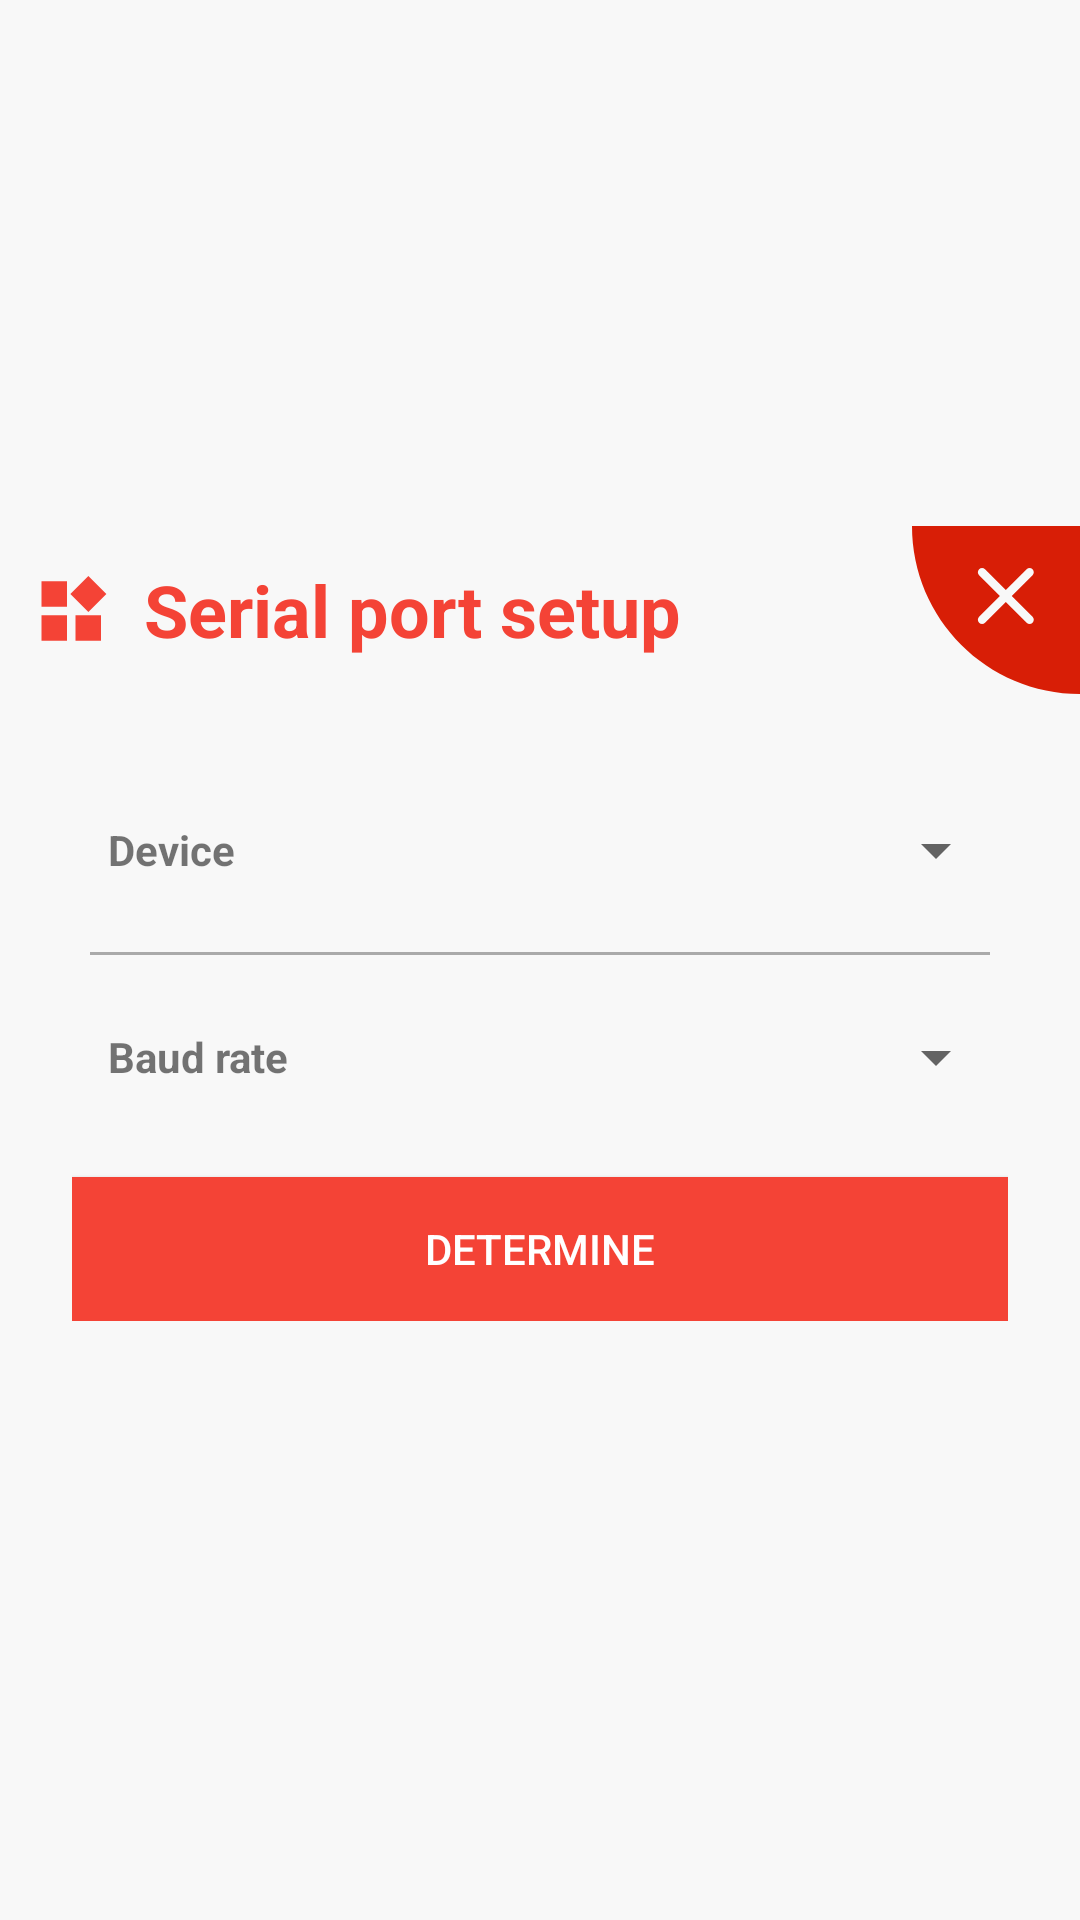

Icons on this 1080×1920 Android screen, each with the point to tap as (x,y):
close: (996,610)
